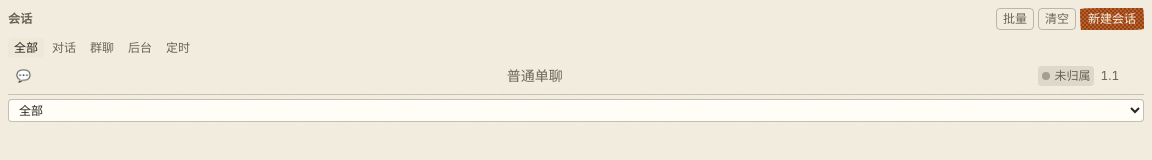
Test: ConversationsList — steward session isolation (spec 5.2) › batch mode selection pool never contains the steward session
Expected: the text "普通单聊" is shown, [507, 67, 563, 84]
Click the button "批量" at (1015, 19), box [996, 8, 1034, 30]
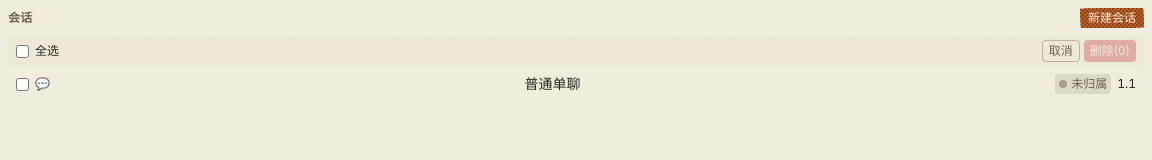
Result: the checkbox labelled "全选" is shown at [16, 44, 29, 58]
